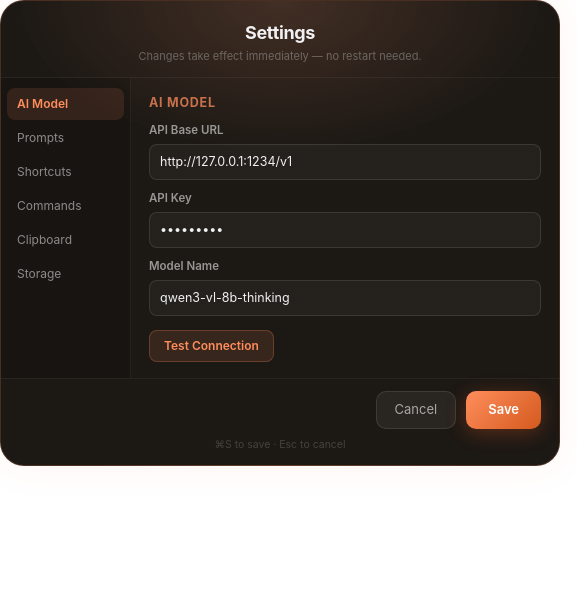
Test case: SettingsView › clicking edit opens the edit panel for a built-in command
Click the button with test id "settings-tab-commands". click: (66, 206)
box: top-left (7, 190), bottom-right (124, 222)
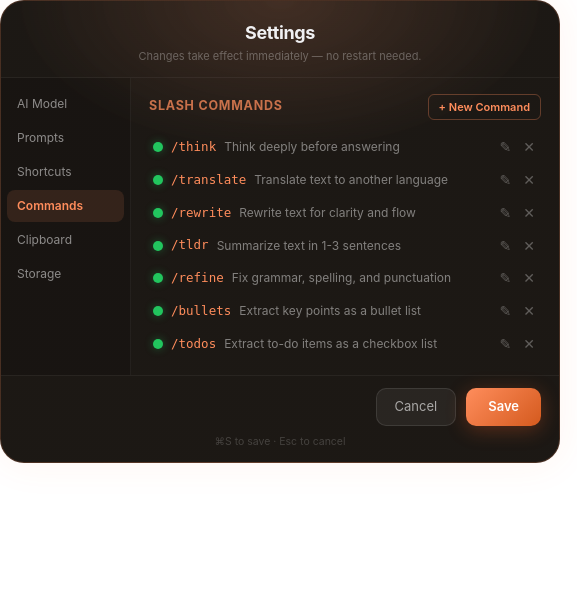
Click the button with test id "cmd-row-translate-edit". click: (505, 180)
box: top-left (498, 171), bottom-right (513, 189)
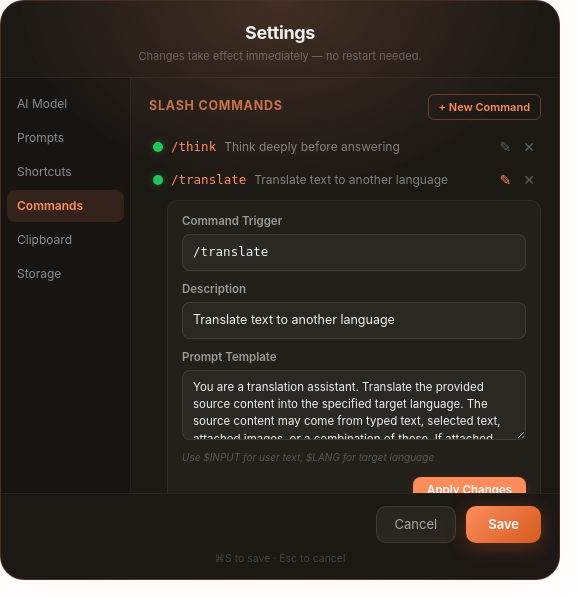
Now the element with test id "cmd-edit-translate" is shown, box top-left (167, 200), bottom-right (541, 493)
Now the field with test id "cmd-edit-translate-trigger" is shown, box top-left (182, 234), bottom-right (526, 271)
Now the field with test id "cmd-edit-translate-desc" is shown, box top-left (182, 302), bottom-right (526, 339)
